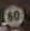limite 60: (2, 3, 26, 27)
